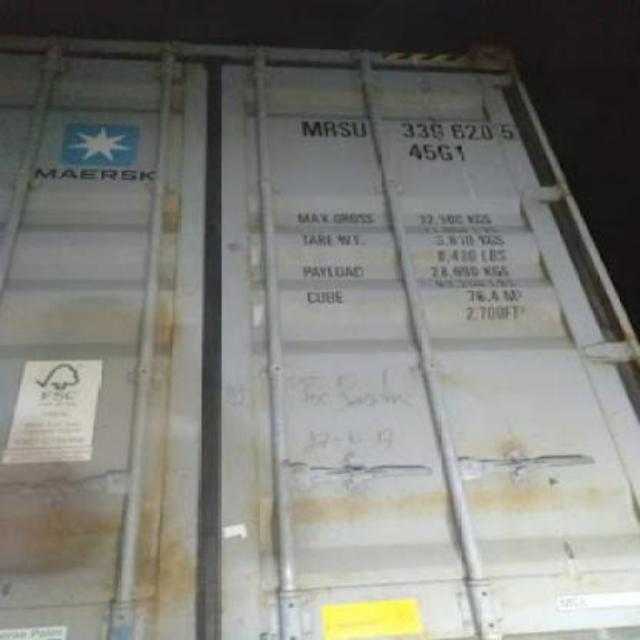0: (478, 123, 498, 141)
2: (464, 121, 480, 141)
3: (400, 120, 416, 140), (416, 122, 429, 140)
5: (496, 121, 518, 141)
6: (450, 123, 466, 139)
9: (431, 122, 444, 140)
M: (298, 118, 324, 138)
R: (324, 119, 338, 137)
S: (338, 118, 352, 140)
U: (350, 120, 370, 140)
